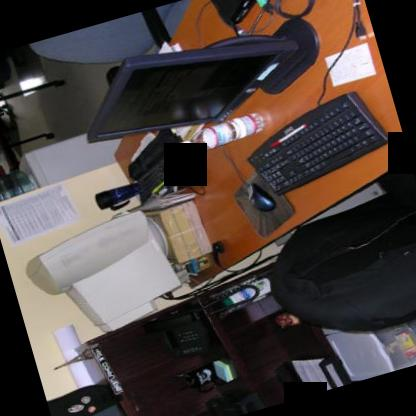handbag: (47, 381, 126, 416)
